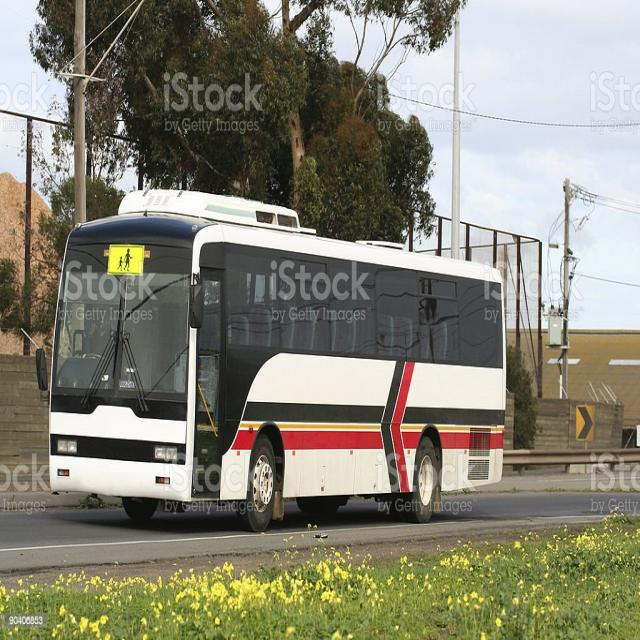bus: (72, 178, 544, 500)
column: (548, 154, 580, 416)
tree: (189, 17, 390, 202)
